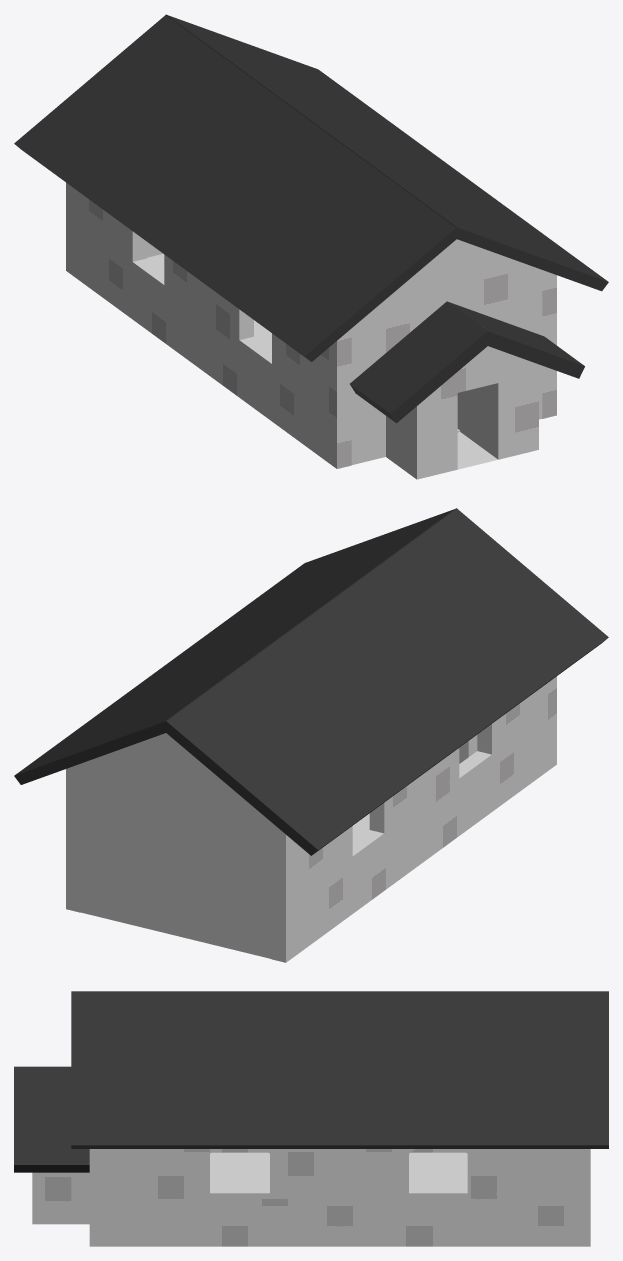
The model's file is Small Church.fbx.
3 views of the same model, one above another, from view 1: azimuth 30°, elevation 25°; view 2: azimuth 150°, elevation 25°; view 3: azimuth 270°, elevation 25° (orthographic). The views are drawn at different scales.
Visible parts, largest first — view 1: left_roof, left_wall, front, right_roof, front_wall, right_wall; view 2: left_roof, back_wall, left_wall, right_roof, right_wall; view 3: right_roof, right_wall, front, cuboid, left_roof, left_wall.
Boxes of the visible parts, bbox=[...] form: left_roof: bbox=[14, 14, 459, 361]; left_wall: bbox=[66, 182, 351, 468]; front: bbox=[350, 301, 584, 479]; right_roof: bbox=[166, 14, 608, 291]; front_wall: bbox=[351, 239, 542, 464]; right_wall: bbox=[542, 270, 556, 418]; left_roof: bbox=[166, 508, 608, 855]; back_wall: bbox=[80, 733, 271, 958]; left_wall: bbox=[271, 676, 556, 962]; right_roof: bbox=[14, 508, 456, 784]; right_wall: bbox=[66, 764, 80, 912]; right_roof: bbox=[71, 991, 608, 1148]; right_wall: bbox=[89, 1149, 590, 1246]; front: bbox=[14, 1066, 89, 1224]; cuboid: bbox=[210, 1152, 467, 1186]; left_roof: bbox=[71, 991, 608, 991]; left_wall: bbox=[212, 1149, 465, 1152].
Size of the model in its own units: 77.81 by 54.57 by 142.
Materials: 2 (2 with a texture image).
